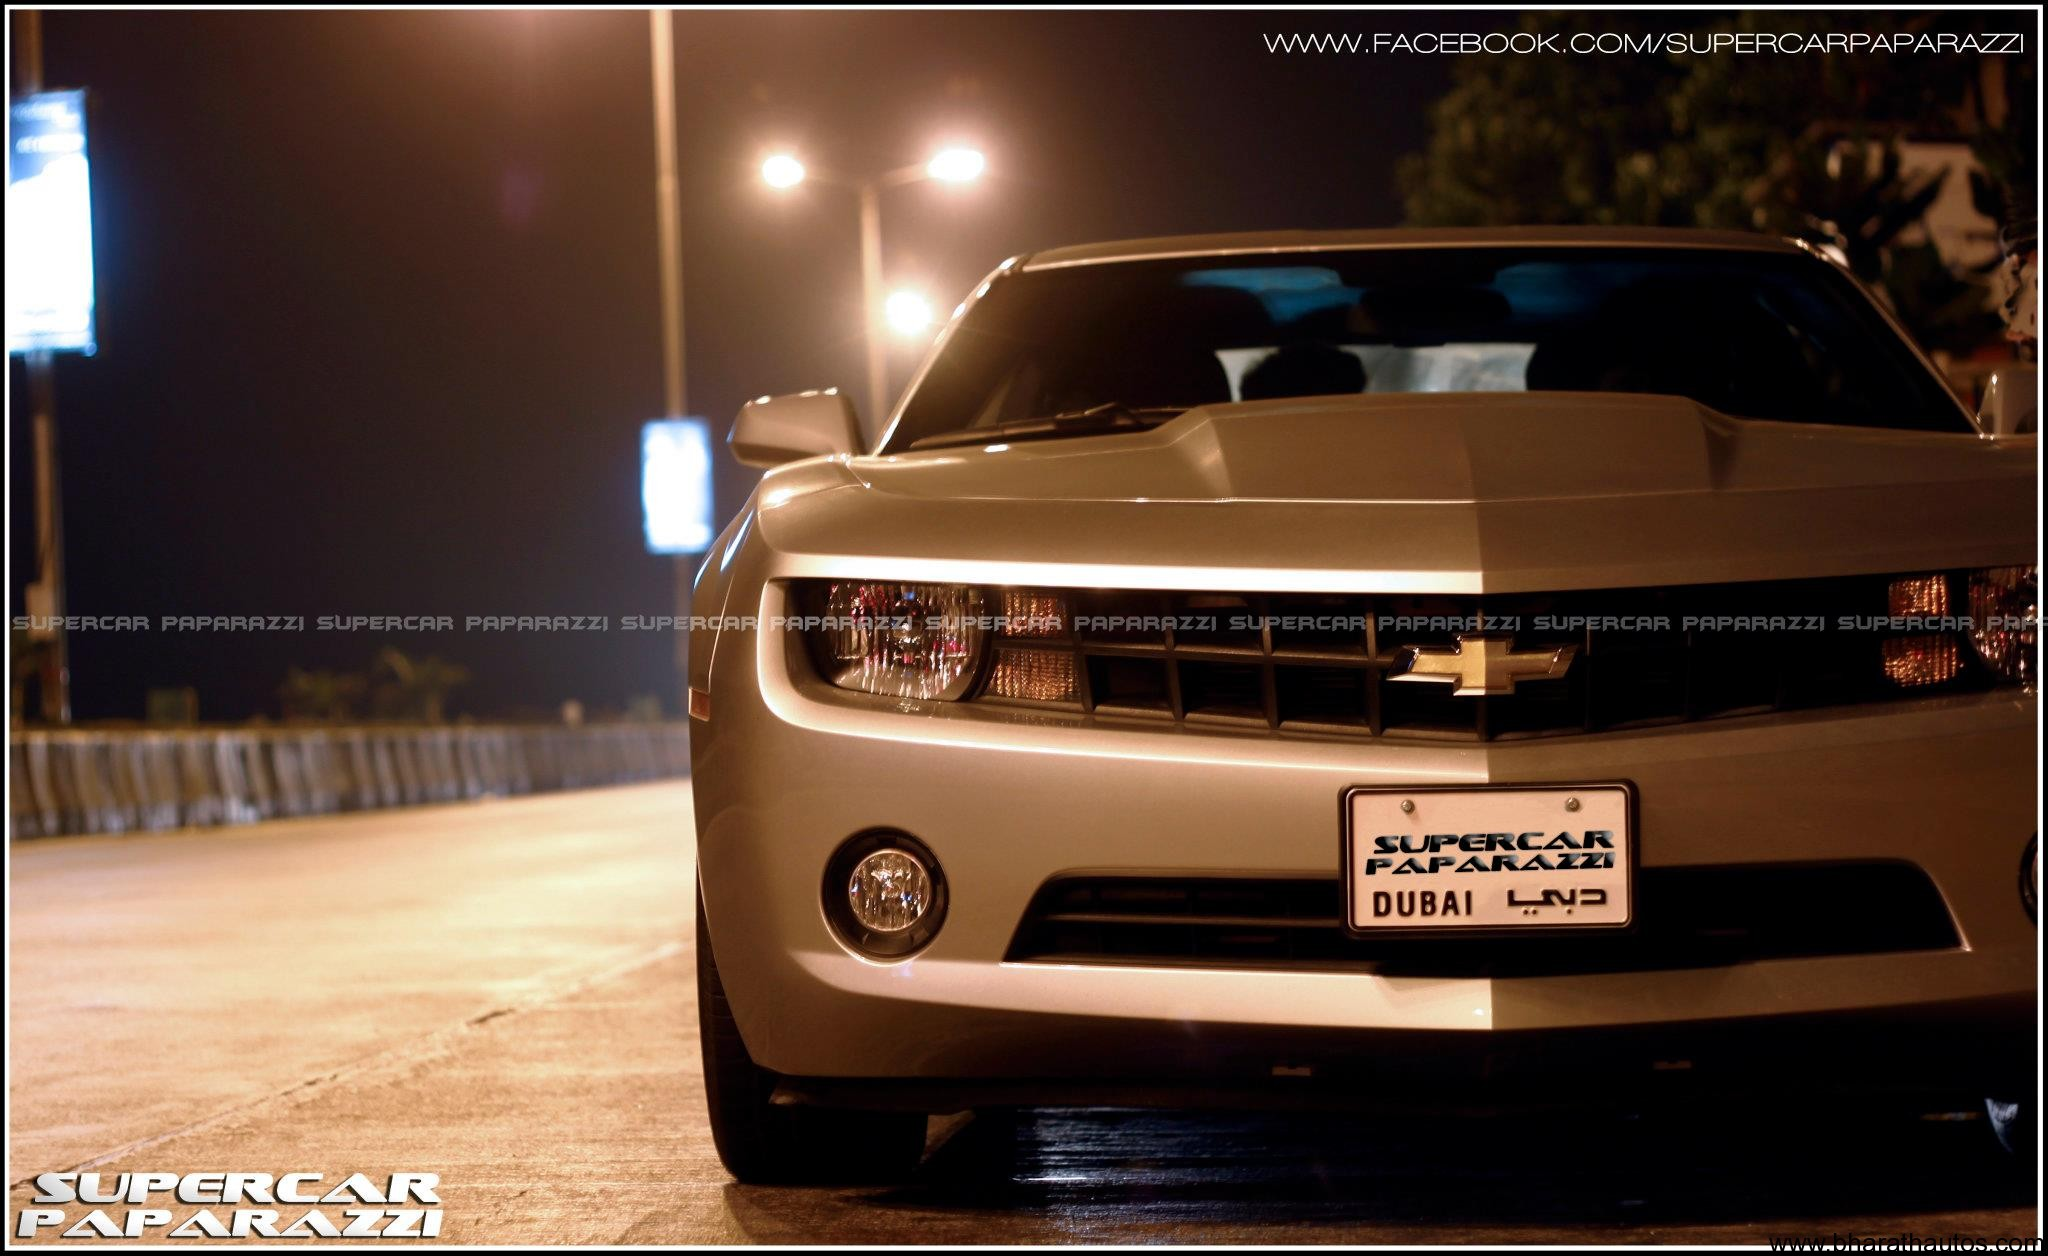number_plate: (1338, 775, 1642, 936)
